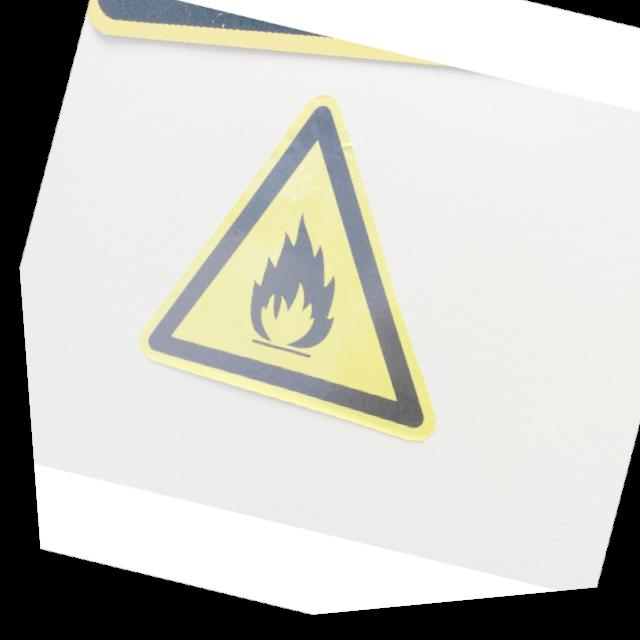fire hazard: (106, 47, 524, 475)
